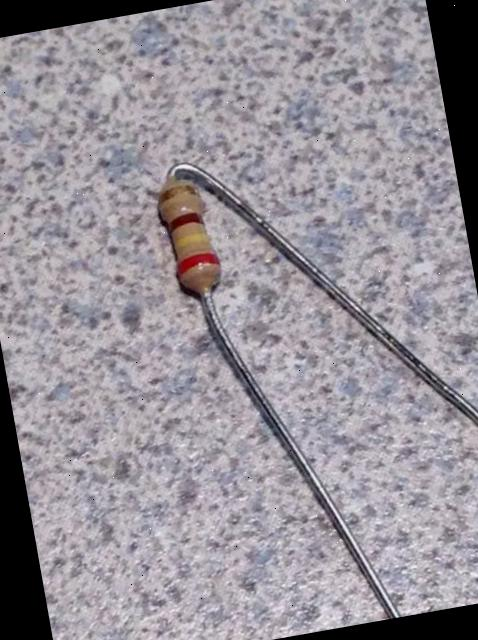brown: (166, 212, 204, 233)
gold: (156, 184, 199, 209)
red: (175, 252, 220, 276)
resistor: (143, 175, 229, 300)
yellow: (171, 233, 209, 250)
